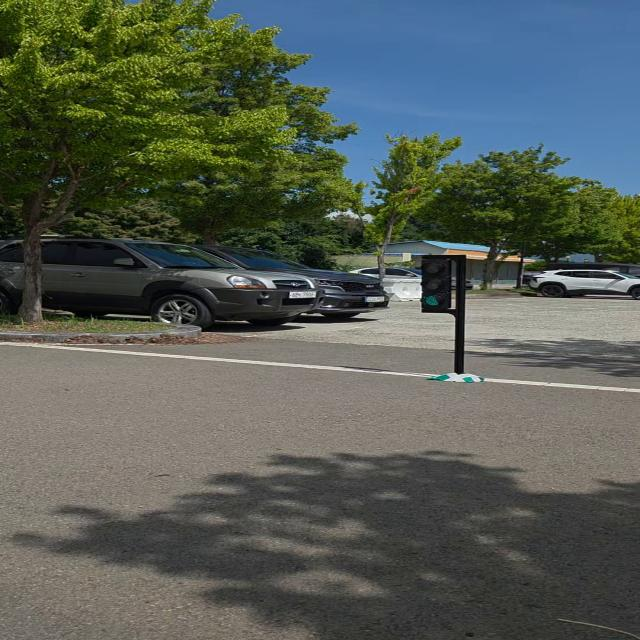green: (421, 258, 456, 311)
